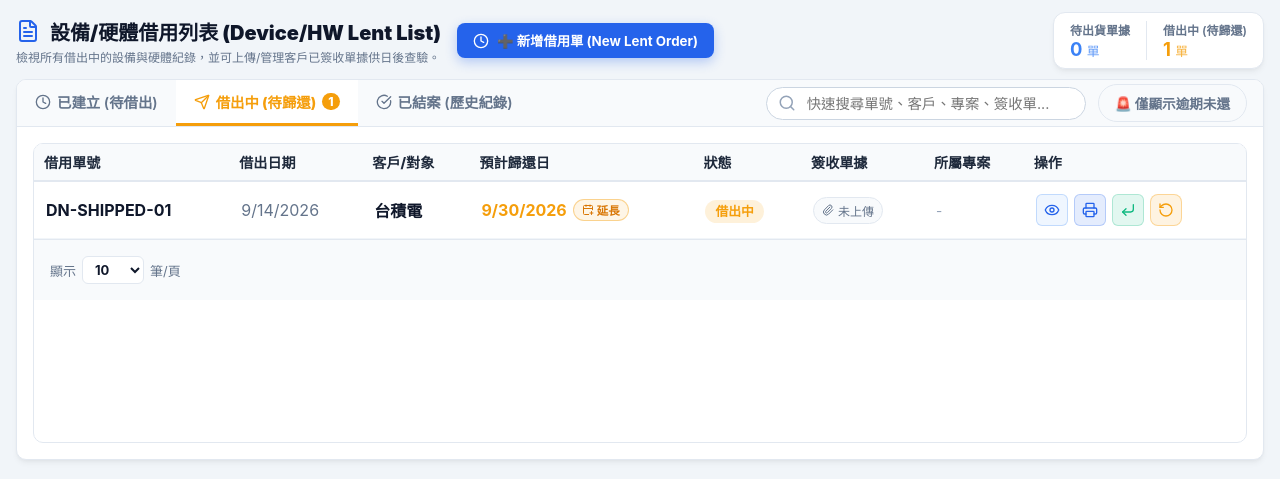
Test case: 借用單列表：分頁切換 › 待借出為空時，仍然點得進「已建立（待借出）」分頁
Expected: the text "DN-SHIPPED-01" is shown, [34, 181, 229, 238]
# 統計卡片上也有同樣的文字，要指定分頁按鈕
Click the button "已建立 (待借出)" at point(96, 103), box [17, 80, 176, 126]
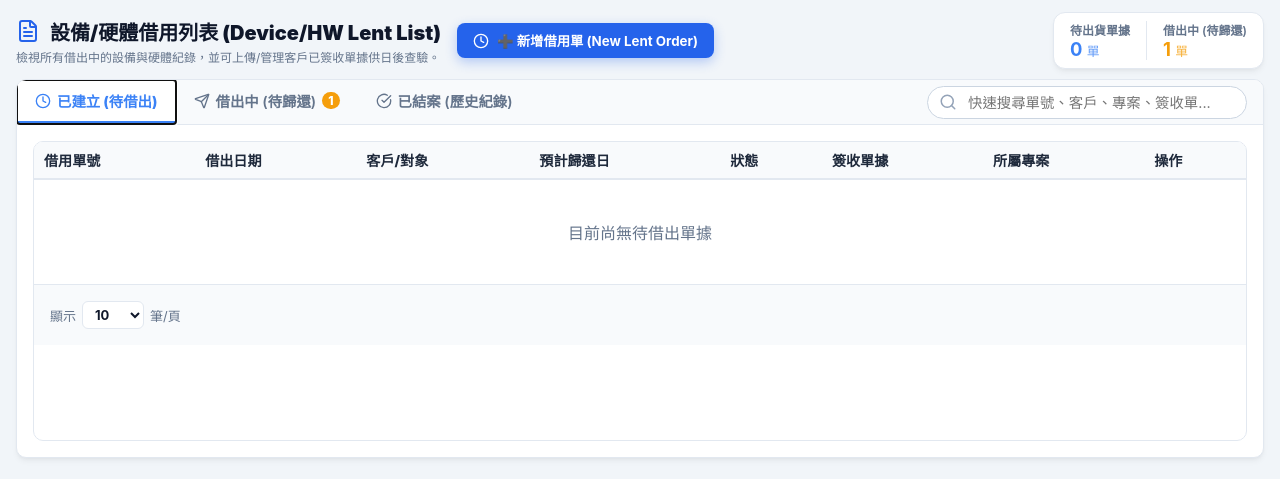
Expected: the text "DN-SHIPPED-01" is gone
Expected: the text "目前尚無待借出單據" is shown, [34, 179, 1246, 284]
